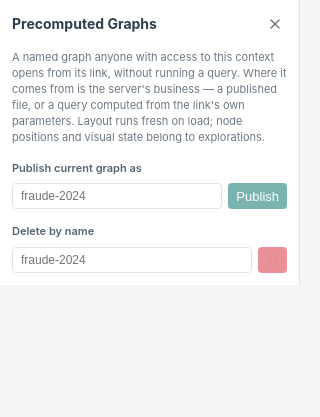
it: PrecomputedGraphPanel › deleting by name › drops the saved link when it names the entry just deleted
Type "c1" into the field with test id "precomputed-graph-name-input".
click(117, 196); type("c1")  # box top-left (12, 183), bottom-right (222, 209)
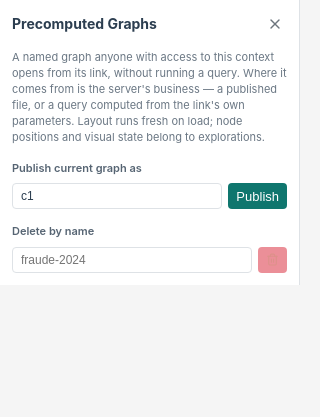
Click the button with test id "precomputed-graph-save-button".
click(258, 196)  # box top-left (228, 183), bottom-right (287, 209)
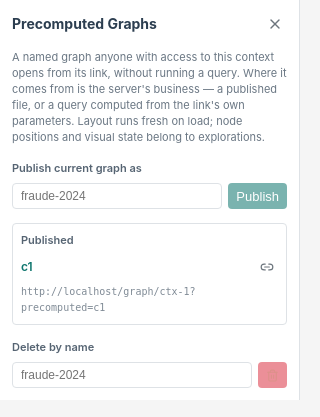
Check: the element with test id "precomputed-graph-last-saved" is shown, box top-left (12, 223), bottom-right (287, 325)
Type "c1" into the field with test id "precomputed-graph-delete-input".
click(132, 375); type("c1")  # box top-left (12, 362), bottom-right (252, 388)
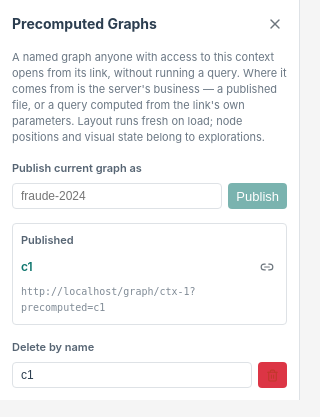
Click the button with test id "precomputed-graph-delete-button".
click(272, 375)  # box top-left (258, 362), bottom-right (287, 388)
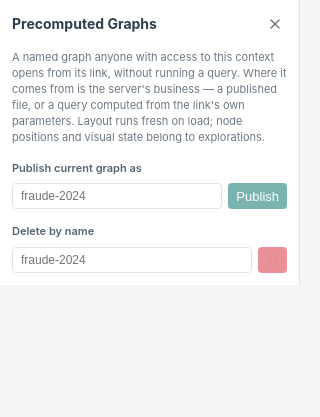
Check: the element with test id "precomputed-graph-last-saved" is gone
